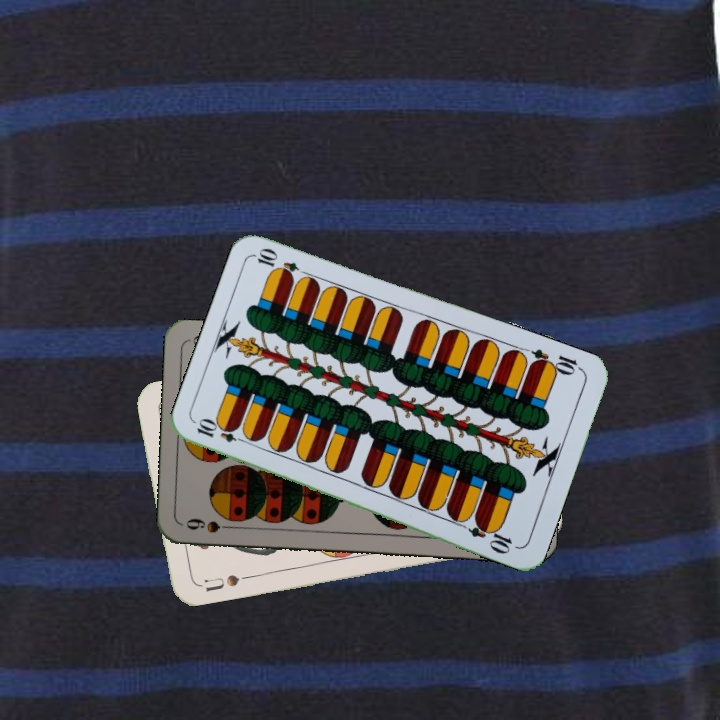E10: (526, 345, 585, 378), (193, 417, 251, 446)
S9: (182, 514, 241, 536)
SU: (200, 570, 242, 595)
